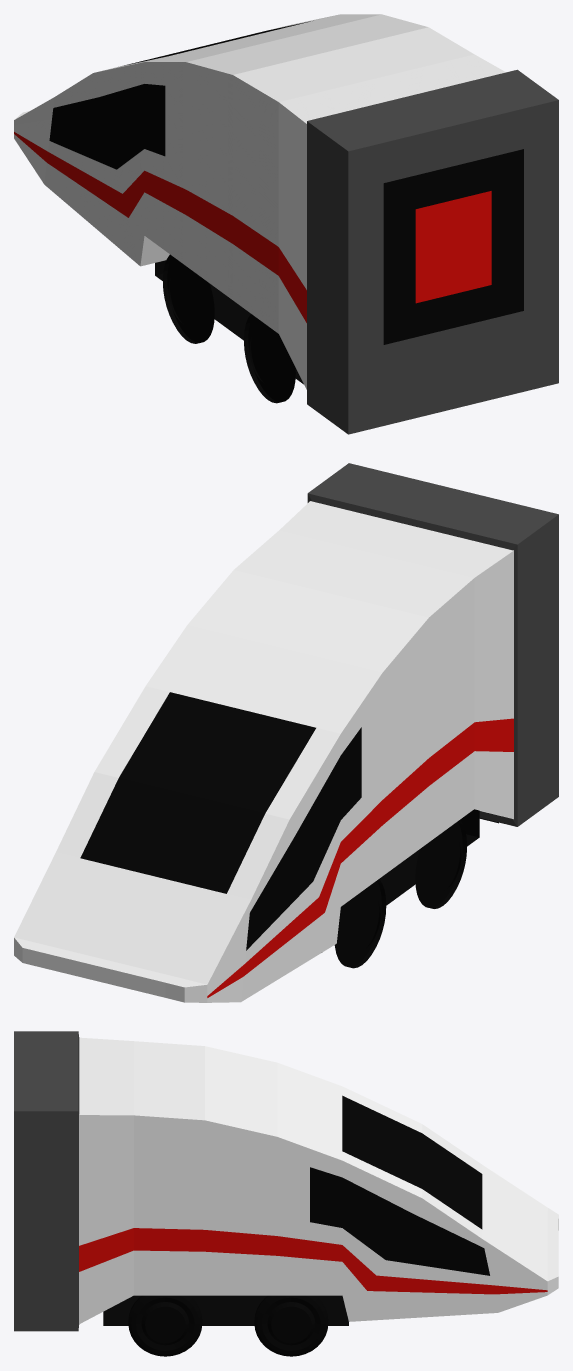
The model's file is bullet1.fbx.
3 renders of one model, top to bottom at view 1: azimuth 30°, elevation 25°; view 2: azimuth 150°, elevation 25°; view 3: azimuth 270°, elevation 25°, orthographic. The views are drawn at different scales.
Parts seen in each view (by area): view 1: Cube; view 2: Cube; view 3: Cube.
Boxes of the visible parts, x1,y1,x2,y2 form: Cube: (14,14,558,434); Cube: (14,463,558,1002); Cube: (14,1031,558,1356).
Bounding box in the file's own units: 162 × 239 × 467.
